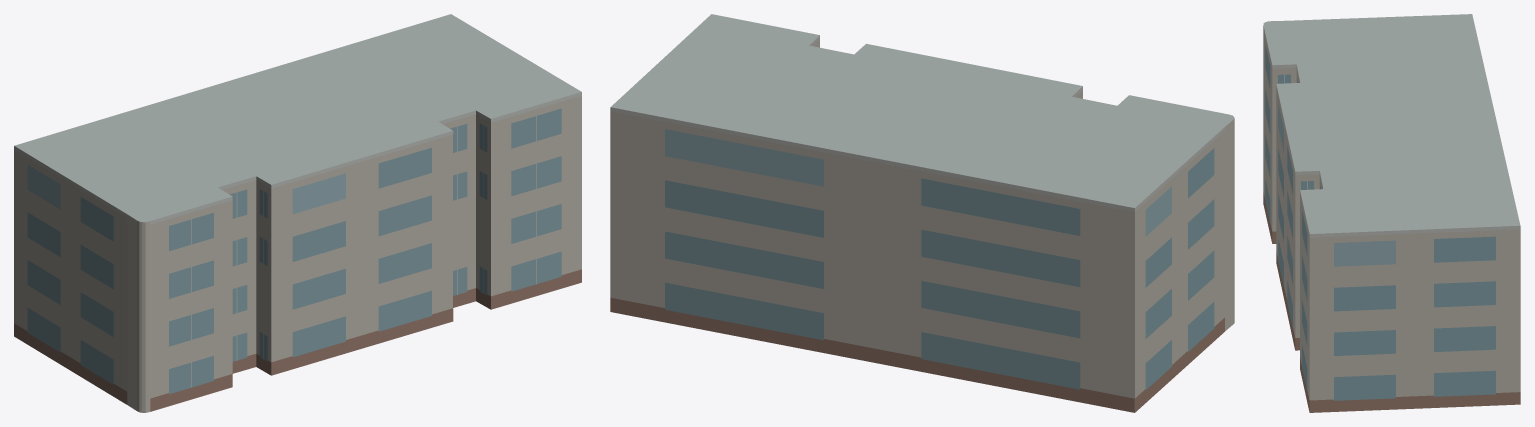
Rendered from survey-upis-32962391.glb.
3 renders of one model, left to right at view 1: azimuth 30°, elevation 25°; view 2: azimuth 150°, elevation 25°; view 3: azimuth 270°, elevation 25°, orthographic. The views are drawn at different scales.
Visible parts, largest first — view 1: survey-upis-32962391.tmp; view 2: survey-upis-32962391.tmp; view 3: survey-upis-32962391.tmp.
Boxes of the visible parts, left/top/right/bottom form: survey-upis-32962391.tmp: left=14, top=14, right=581, bottom=412; survey-upis-32962391.tmp: left=610, top=14, right=1234, bottom=412; survey-upis-32962391.tmp: left=1263, top=14, right=1520, bottom=412.
Size of the model in its own units: 33 by 12.5 by 16.29.
